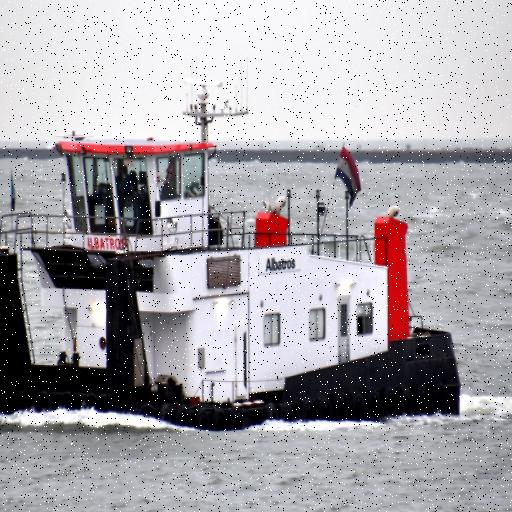tugboat: (1, 76, 468, 433)
